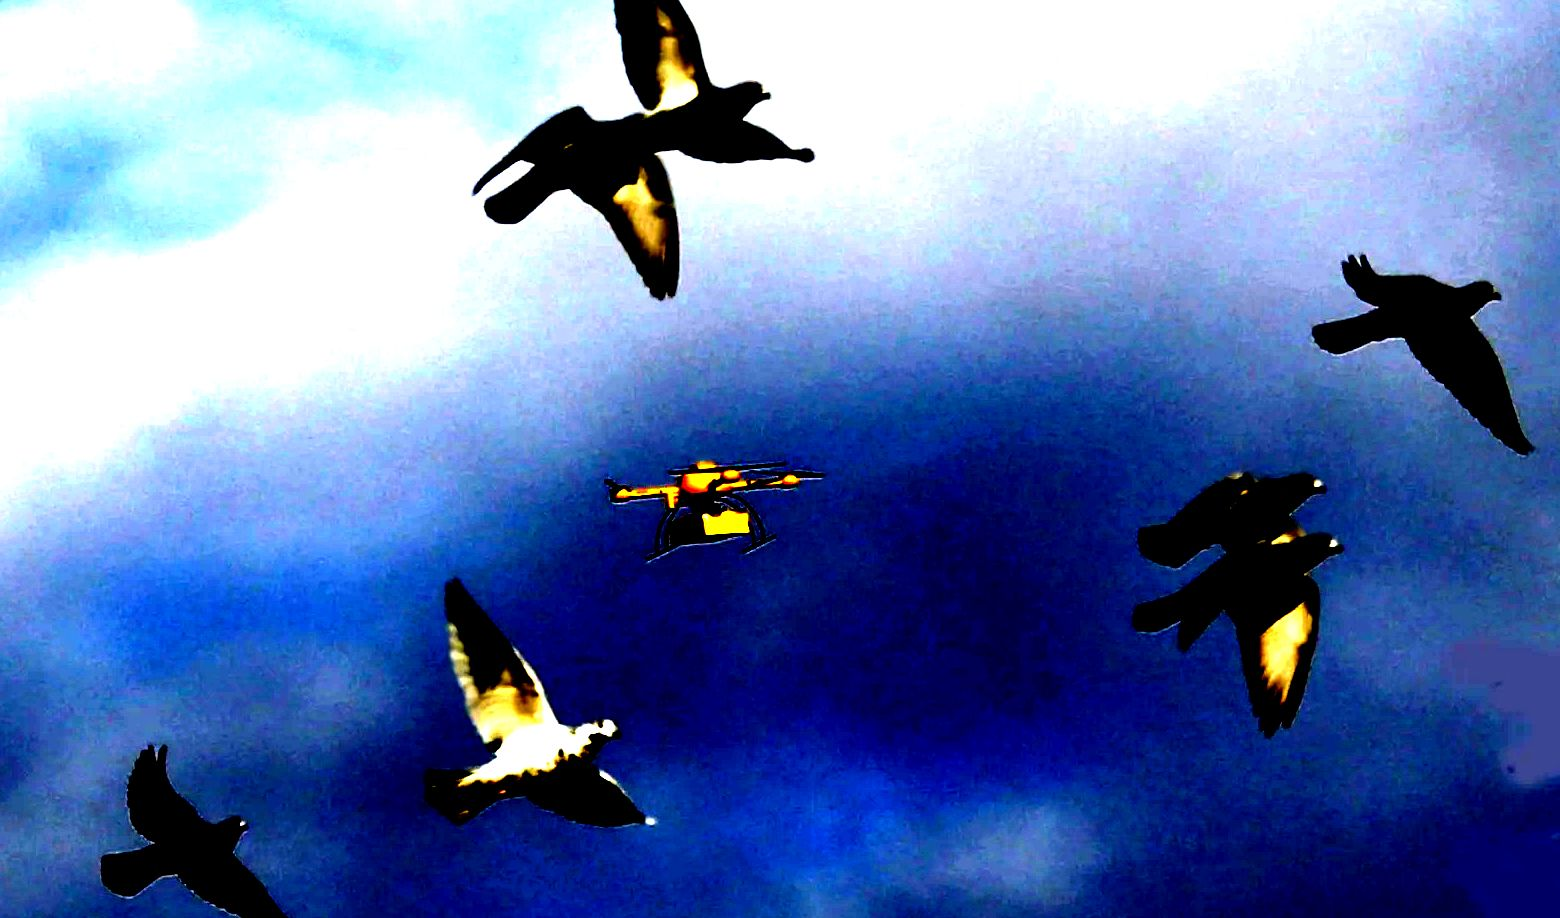Bird: (419, 569, 667, 840), (1302, 239, 1533, 472), (1130, 532, 1361, 737), (462, 96, 690, 301), (599, 1, 823, 180), (86, 739, 291, 910), (1130, 459, 1328, 567)
Drone: (603, 446, 829, 581)
